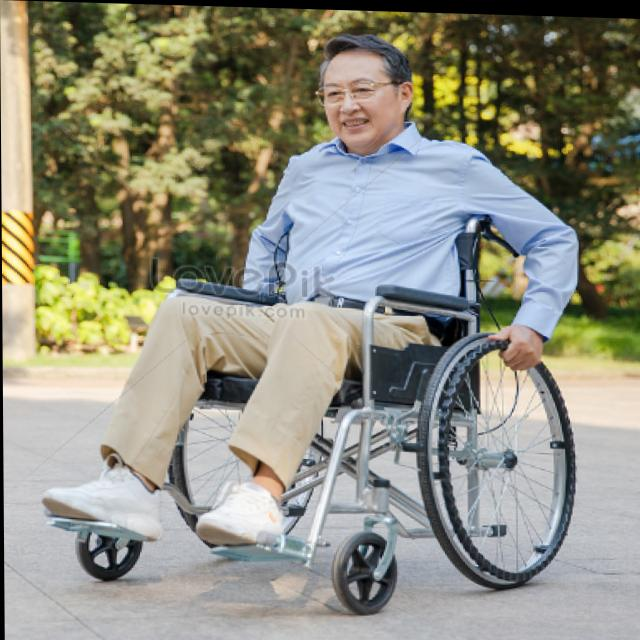wheelchair: (36, 27, 581, 617)
